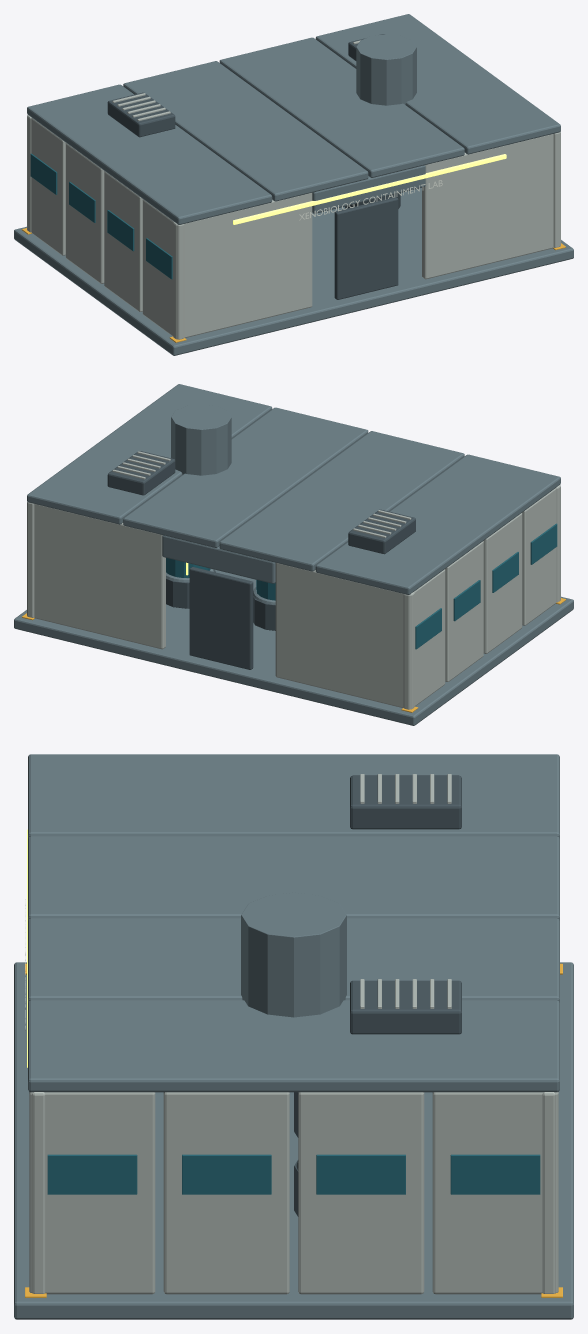
The model's file is research_xenobiology_d0.glb.
The picture shows the model from 3 angles, top to bottom: view 1: azimuth 30°, elevation 25°; view 2: azimuth 150°, elevation 25°; view 3: azimuth 270°, elevation 25°; orthographic projection. The views are drawn at different scales.
Visible parts, largest first — view 1: End bulkhead.042, End bulkhead.043, Removable roof segment.031, Removable roof segment.032, Removable roof segment.030, Foundation.012, Removable roof segment.033, Sealed airlock.012, Side pressure panel.071, Side pressure panel.069, Roof quarantine scrubber, Side pressure panel.070 (+11 smaller); view 2: End bulkhead.044, End bulkhead.045, Removable roof segment.031, Removable roof segment.032, Removable roof segment.030, Foundation.012, Removable roof segment.033, Sealed airlock.013, Side pressure panel.070, Side pressure panel.072, Roof quarantine scrubber, Side pressure panel.071 (+13 smaller); view 3: Removable roof segment.033, Removable roof segment.031, Removable roof segment.030, Removable roof segment.032, Foundation.012, Side pressure panel.074, Side pressure panel.075, Side pressure panel.073, Side pressure panel.076, Roof quarantine scrubber, Roof heat exchanger.015, Roof heat exchanger.016 (+6 smaller).
Part boxes in pixels (x1,y1,x2,y2): End bulkhead.042: [173, 193, 312, 339]; End bulkhead.043: [422, 132, 560, 279]; Removable roof segment.031: [123, 61, 368, 201]; Removable roof segment.032: [219, 37, 464, 177]; Removable roof segment.030: [27, 84, 272, 224]; Foundation.012: [14, 188, 573, 355]; Removable roof segment.033: [315, 14, 560, 154]; Sealed airlock.012: [334, 197, 398, 299]; Side pressure panel.071: [65, 143, 104, 283]; Side pressure panel.069: [142, 199, 184, 339]; Roof quarantine scrubber: [356, 34, 416, 105]; Side pressure panel.070: [104, 171, 142, 311]; End bulkhead.044: [275, 563, 414, 709]; End bulkhead.045: [27, 502, 165, 649]; Removable roof segment.031: [219, 431, 464, 571]; Removable roof segment.032: [123, 407, 368, 547]; Removable roof segment.030: [315, 454, 560, 594]; Foundation.012: [14, 569, 573, 725]; Removable roof segment.033: [27, 384, 272, 524]; Sealed airlock.013: [189, 567, 253, 669]; Side pressure panel.070: [483, 513, 522, 653]; Side pressure panel.072: [403, 569, 445, 709]; Roof quarantine scrubber: [171, 404, 231, 475]; Side pressure panel.071: [445, 541, 483, 681]; Removable roof segment.033: [28, 1000, 559, 1092]; Removable roof segment.031: [28, 836, 559, 920]; Removable roof segment.030: [28, 754, 559, 838]; Removable roof segment.032: [28, 918, 559, 1002]; Foundation.012: [14, 962, 573, 1319]; Side pressure panel.074: [163, 1092, 289, 1294]; Side pressure panel.075: [298, 1092, 424, 1294]; Side pressure panel.073: [29, 1092, 155, 1294]; Side pressure panel.076: [432, 1092, 558, 1294]; Roof quarantine scrubber: [241, 892, 346, 1017]; Roof heat exchanger.015: [350, 775, 461, 829]; Roof heat exchanger.016: [350, 980, 461, 1034].
Size of the model in its own units: 13 by 5.57 by 9.
